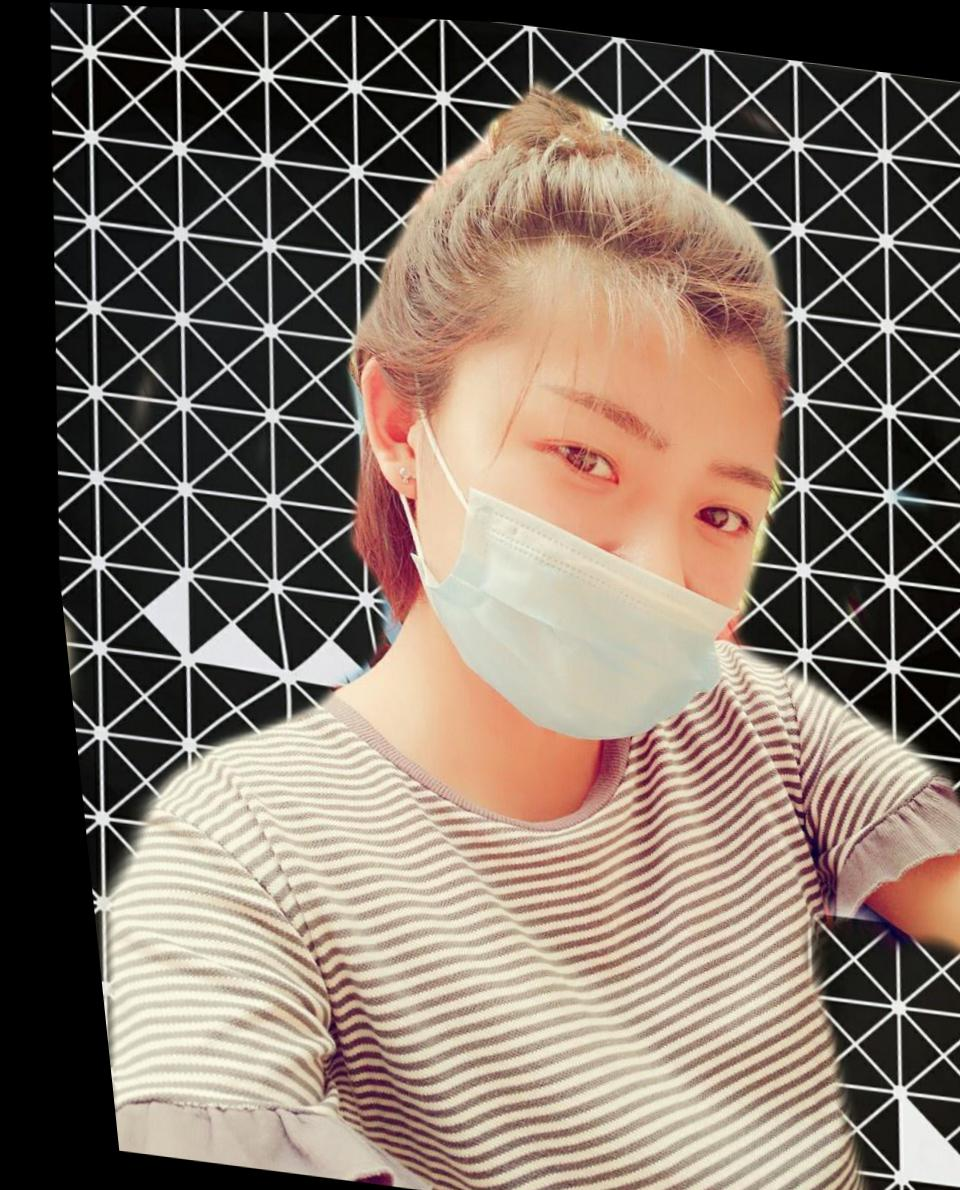WRONG: (375, 343, 794, 744)
